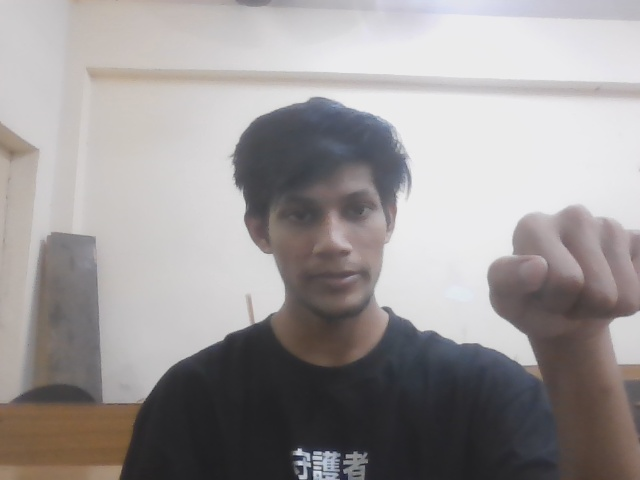yes: (488, 206, 640, 368)
